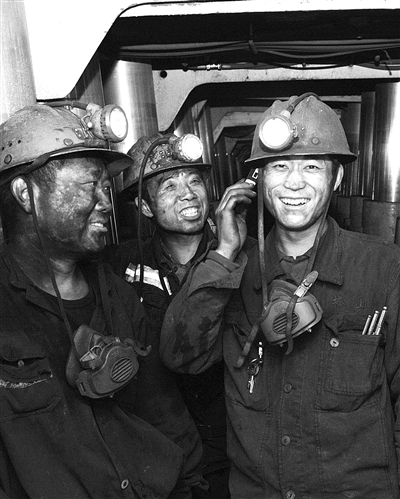helmet: (1, 100, 131, 255), (238, 94, 362, 225), (120, 121, 224, 244)
